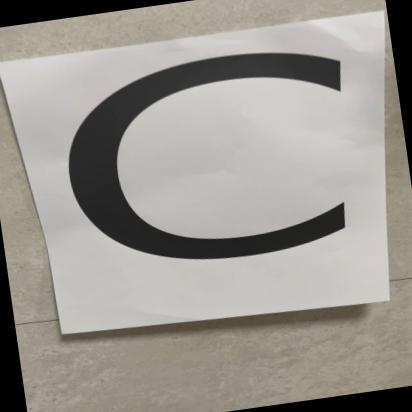seat: (16, 16, 394, 334)
